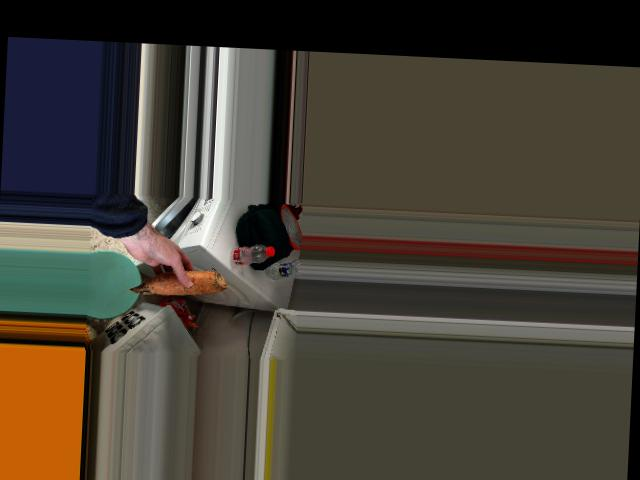sweet_potato: (132, 264, 229, 298)
